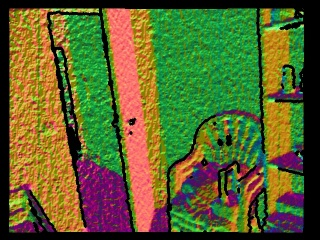station: (212, 161, 242, 222)
